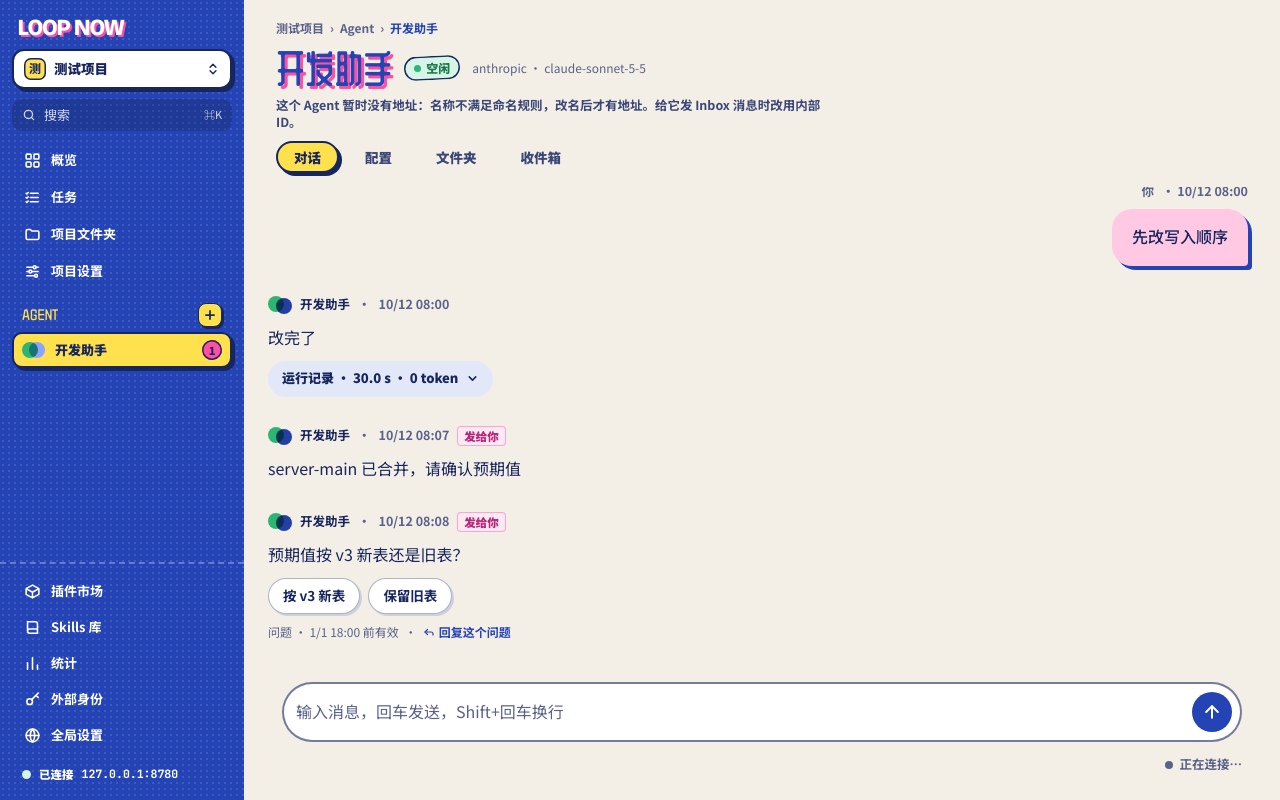
Scenario: Agent 对话里发给你的消息 › 点选项就提交到这条原题（排队，不带正文）；答过后所选的一项高亮、其余变淡
The width and height of the screenshot is (1280, 800).
(page scrolled)
expect the element named "对话" is shown: met, box [268, 187, 1256, 666]
expect the text "问题 · 1/1 18:00 前有效" is shown: met, box [268, 622, 399, 642]
Click the button "保留旧表".
click(410, 596)  # box [368, 578, 452, 614]
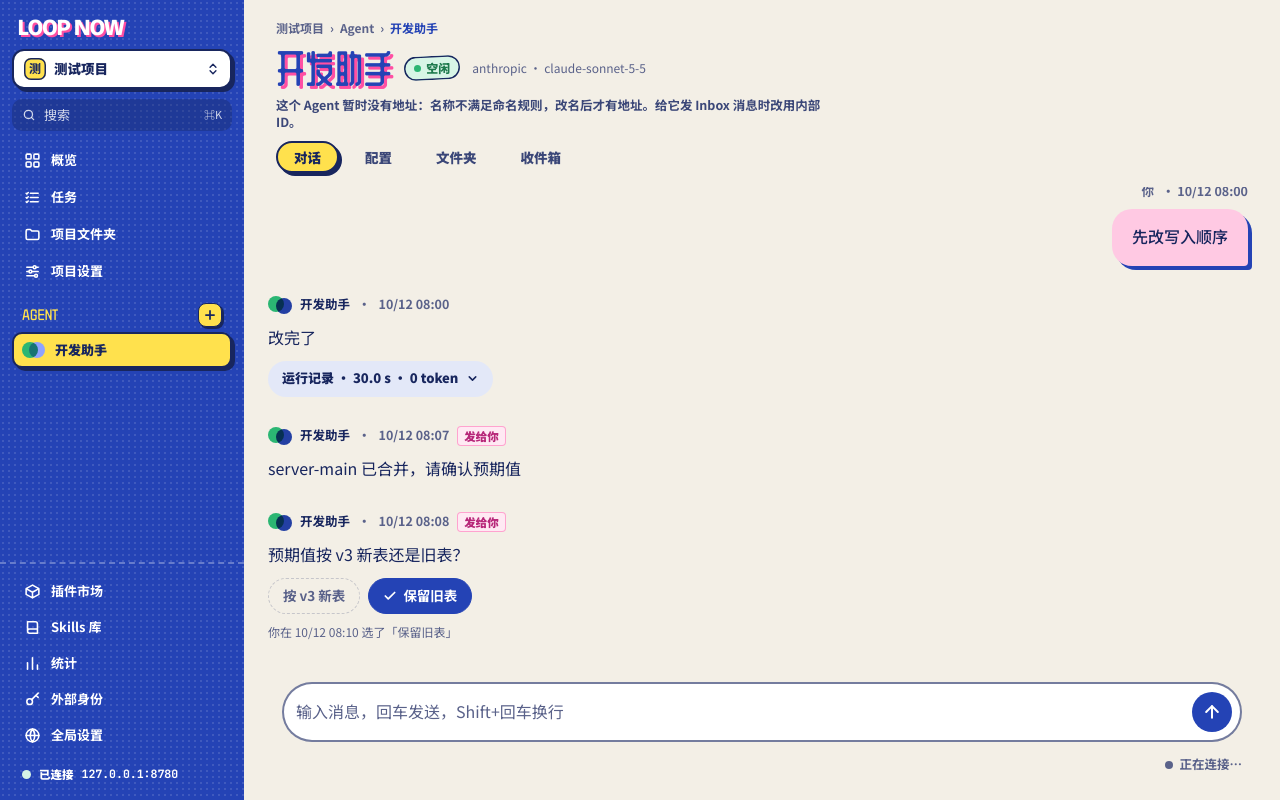
expect the button "按 v3 新表" is disabled: met, box [268, 578, 360, 614]
expect the text "你在 10/12 08:10 选了「保留旧表」" is shown: met, box [268, 622, 457, 642]
